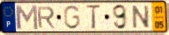9: (111, 4, 129, 31)
G: (62, 4, 81, 31)
M: (14, 5, 40, 31)
N: (131, 5, 151, 30)
R: (36, 6, 56, 30)
T: (84, 4, 102, 31)
